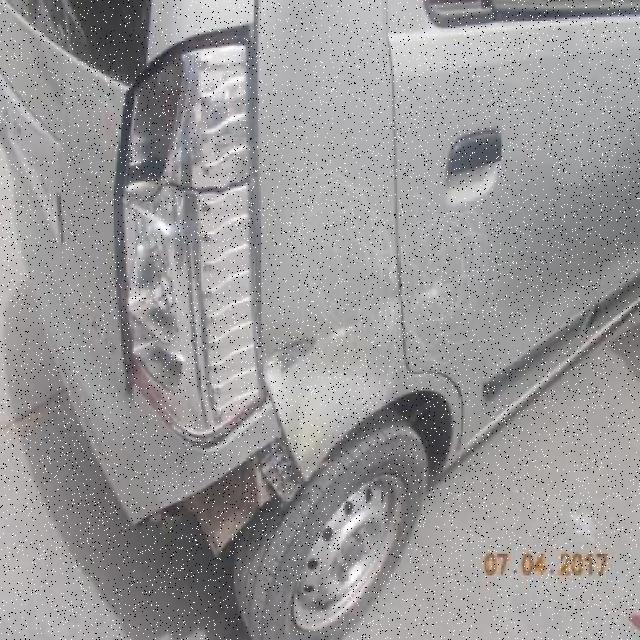damage: (300, 168, 405, 418), (131, 433, 308, 556), (404, 195, 513, 369), (115, 169, 251, 210), (267, 333, 317, 374), (322, 315, 372, 353), (413, 278, 463, 312)
